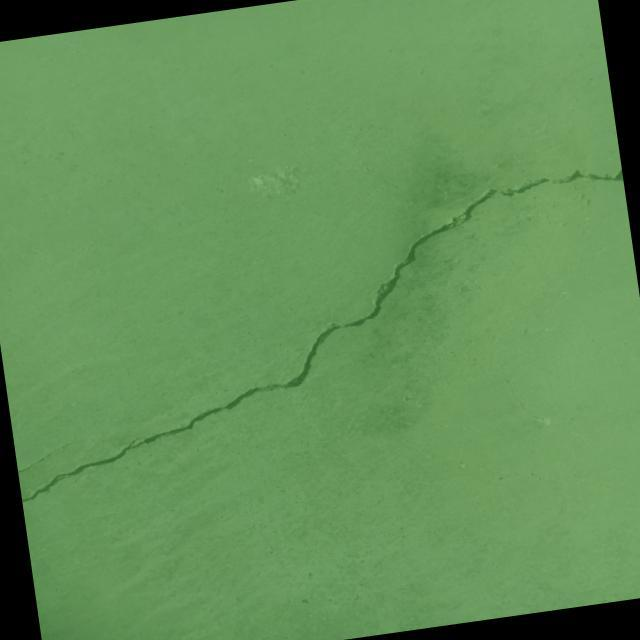crack: (0, 163, 640, 504), (16, 452, 55, 474)
